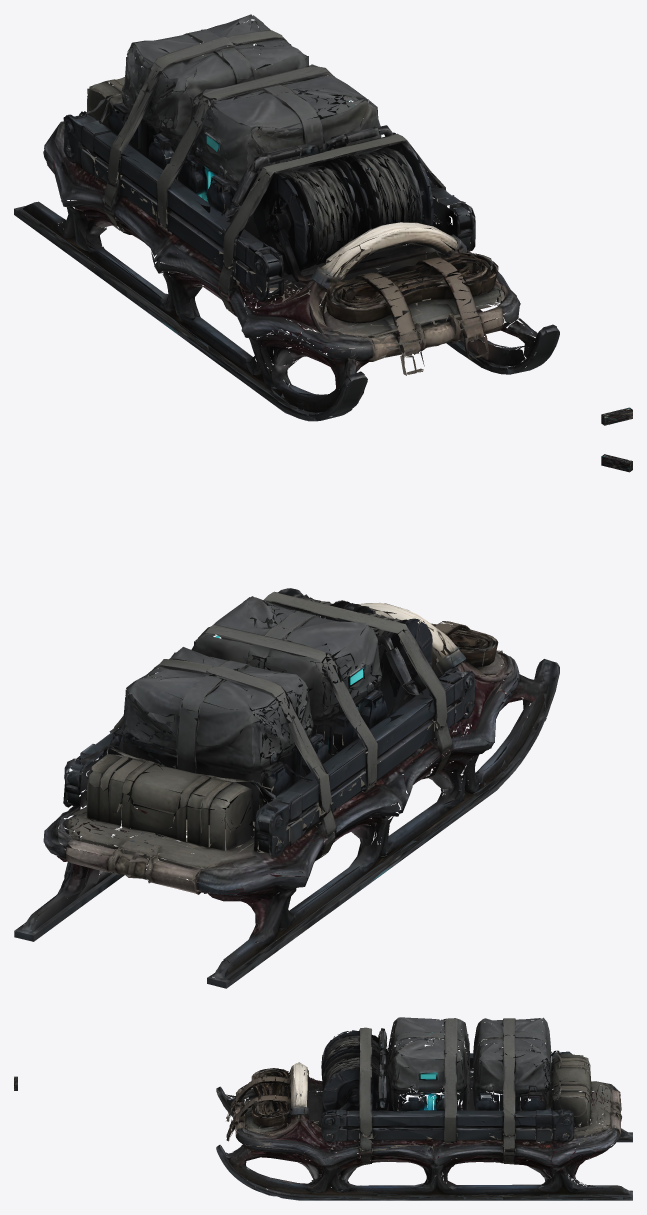
The model's file is meridian_recruited_packdown_sled.glb.
3 renders of one model, top to bottom at view 1: azimuth 30°, elevation 25°; view 2: azimuth 150°, elevation 25°; view 3: azimuth 270°, elevation 25°, orthographic. The views are drawn at different scales.
Visible parts, largest first — view 1: node_0; view 2: node_0; view 3: node_0.
Part boxes in pixels (x1,y1,x2,y2): node_0: (14, 14, 559, 421); node_0: (14, 588, 559, 988); node_0: (216, 1017, 632, 1200).
Size of the model in its own units: 0.4649 by 0.3872 by 1.59.
1 material, 1 textured.
